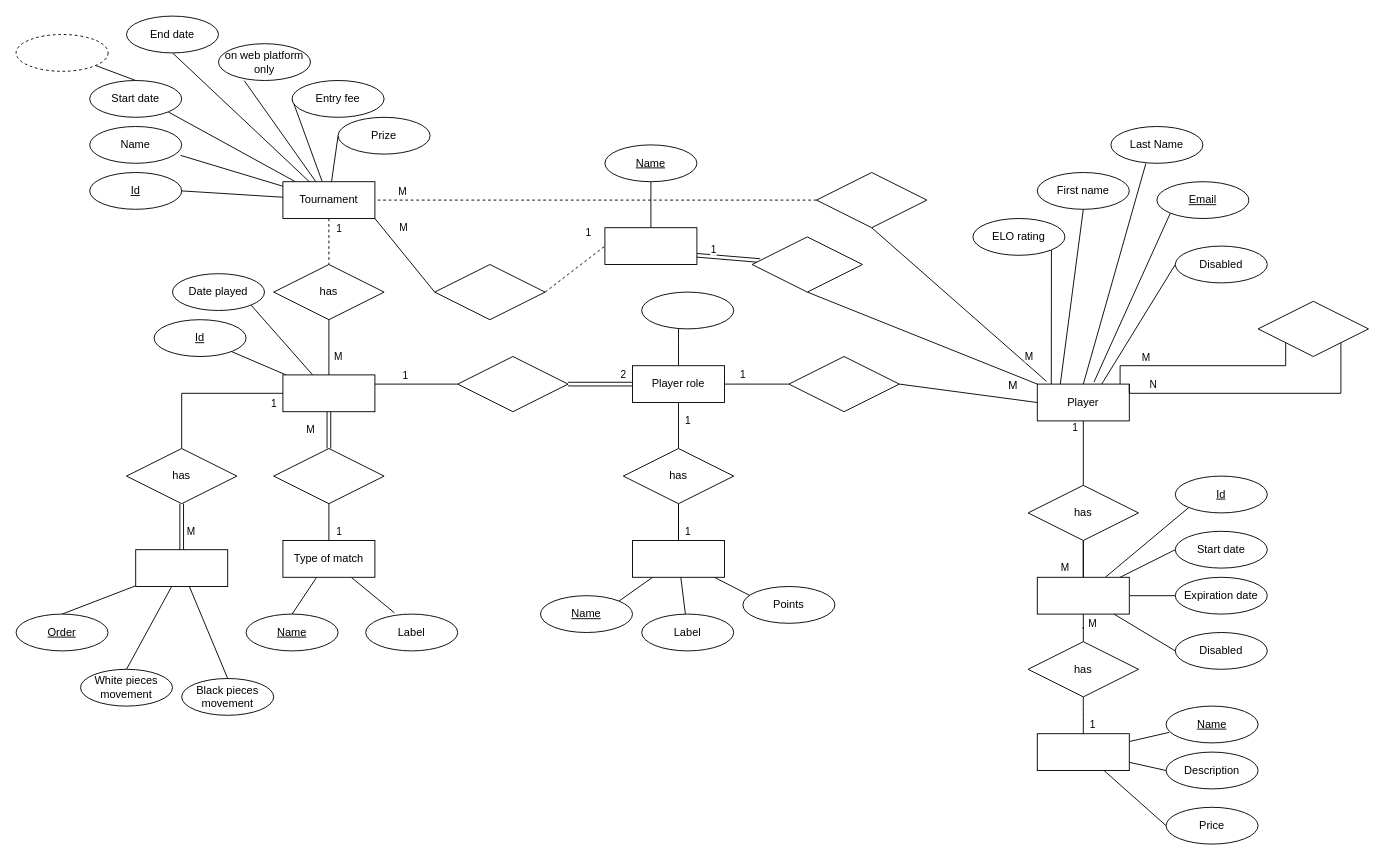
The diagram is 1385 pixels wide and 860 high, and some of its shapes have lost their labels. The shapes that lost their labels are listed below. From the top down, each one's centre as x and y in pixels, then its label:
point 61,52: Year
point 871,200: played
point 650,245: Country
point 806,264: is from
point 489,292: played in a
point 687,310: White pieces?
point 1312,328: has friends
point 328,393: Match
point 512,384: is assigned to
point 843,384: has assigned
point 328,476: Is a
point 181,567: Move
point 678,558: Result type
point 1082,595: Membership
point 1082,751: Membership Type
